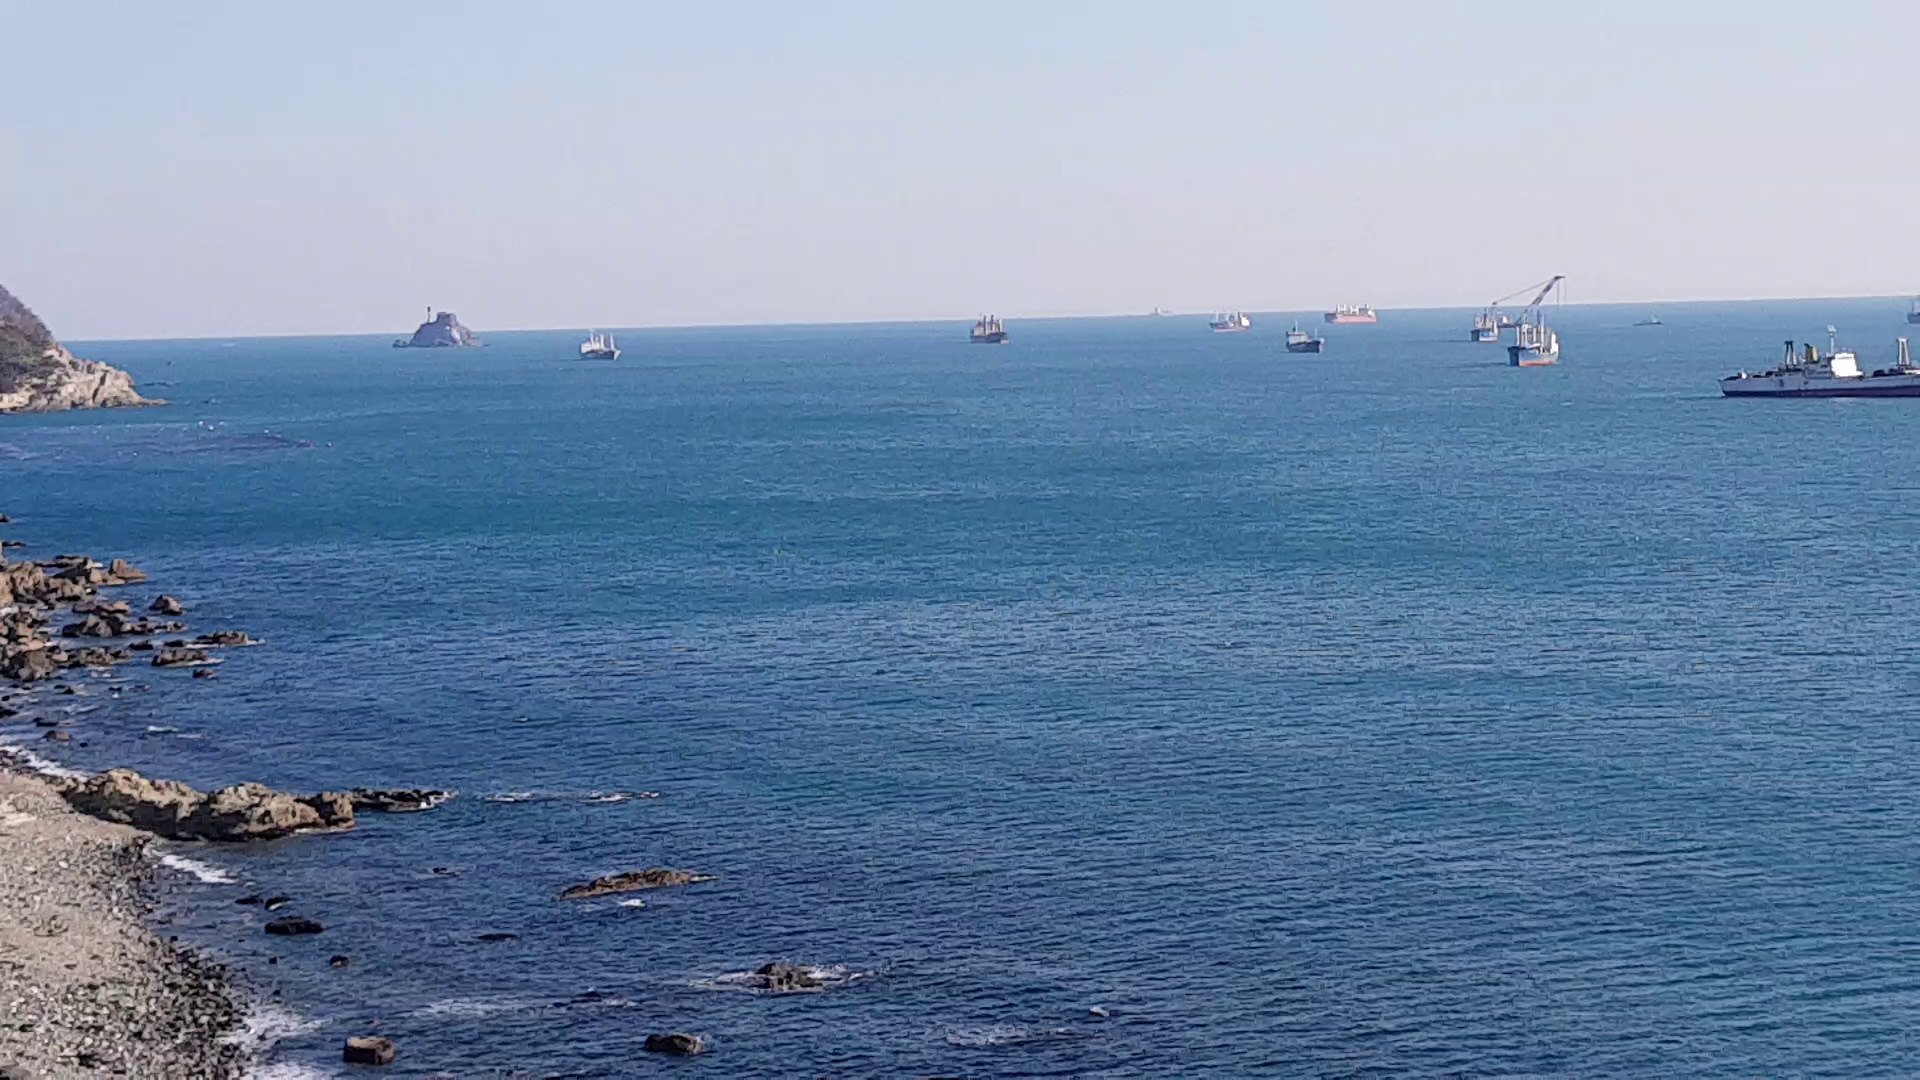Bulk_Carrier: (386, 320, 473, 348), (968, 320, 1001, 342), (578, 339, 615, 356)
